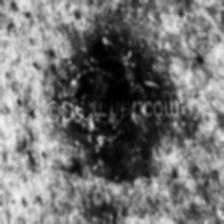Potentially Malignant Skin Tumors: (75, 34, 148, 151)
